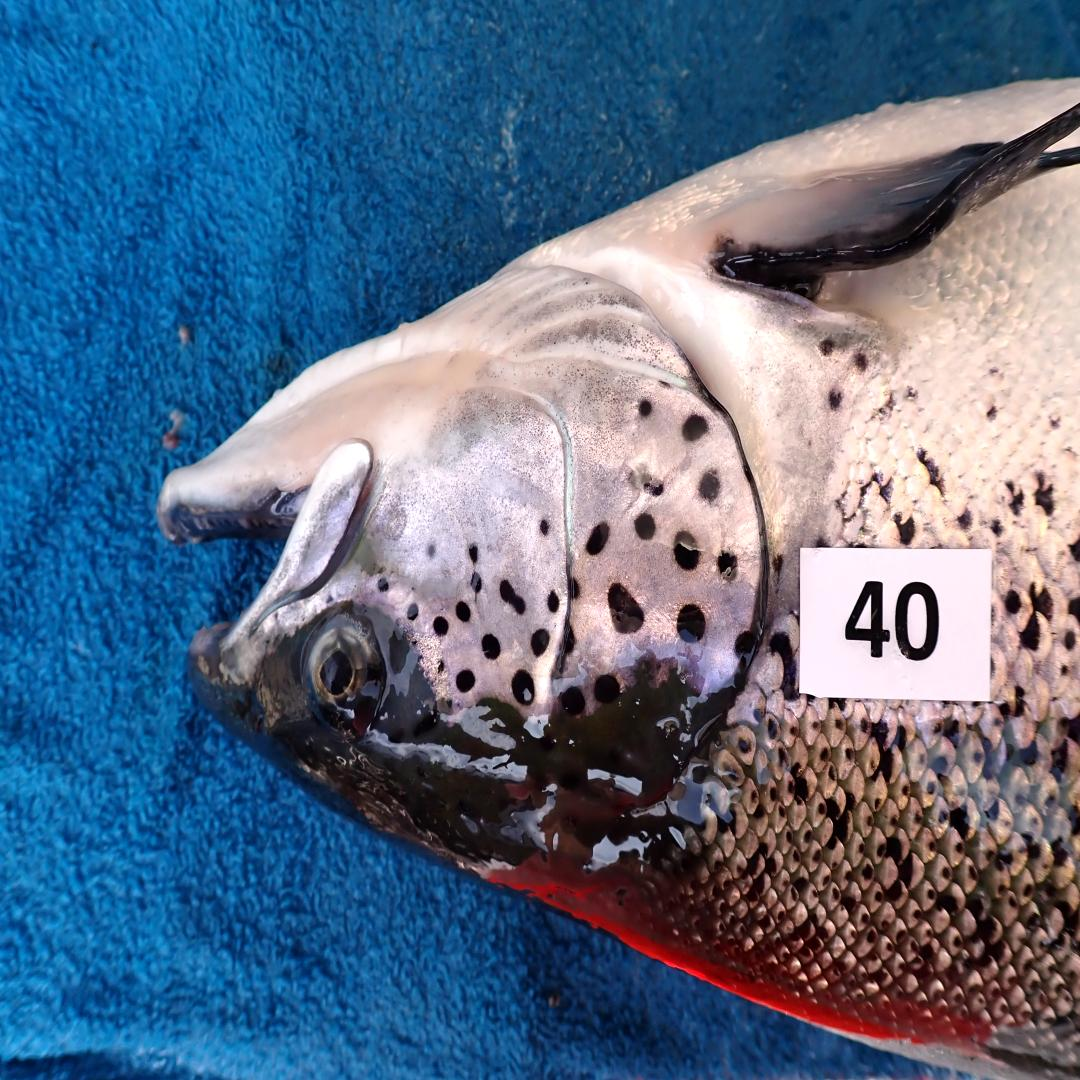roi: (371, 257, 763, 723)
